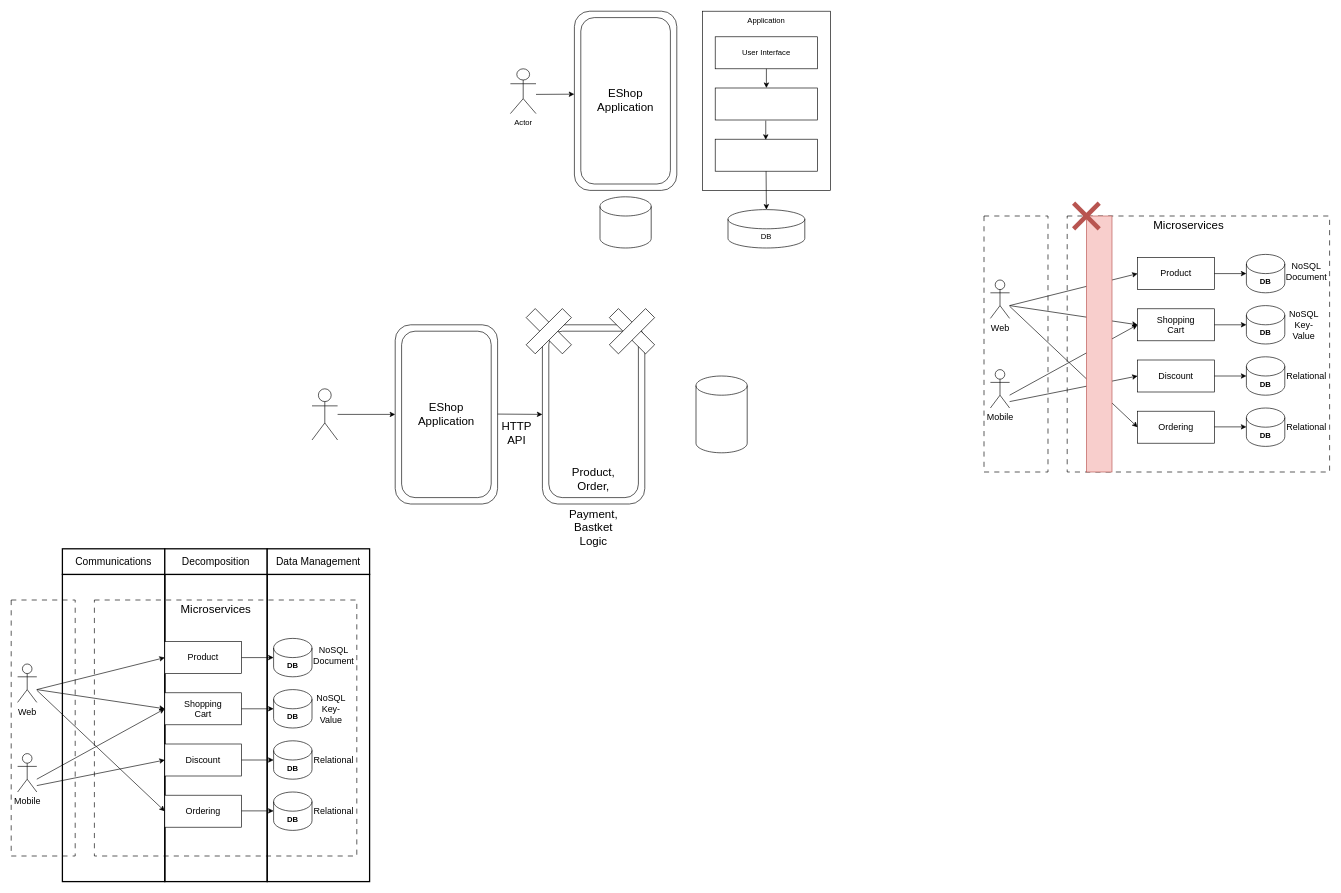
Image size: 1341x893. Some labels were removed from this diagram. The shapes that lost their labels are listed below. From the top down, each one's centre as x and y in pixels, then its label:
At (x=766, y=103): "Business Logic".
At (x=766, y=155): "Data Access".
At (x=625, y=222): "PostgreSQL".
At (x=1099, y=343): "API GATEWAY".
At (x=593, y=414): "EShop Application (Backend)".
At (x=721, y=414): "RDBMS".
